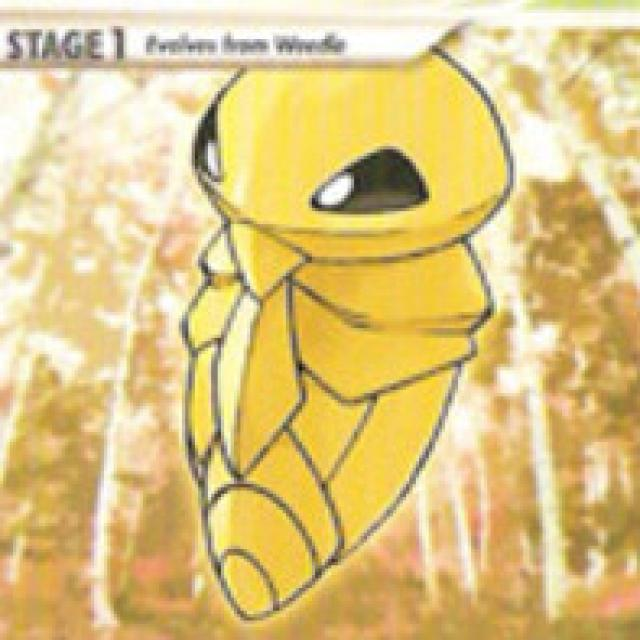Kakuna: (182, 55, 502, 625)
